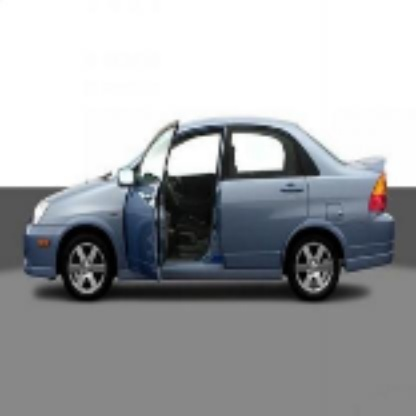Vehicle: (20, 113, 400, 305)
